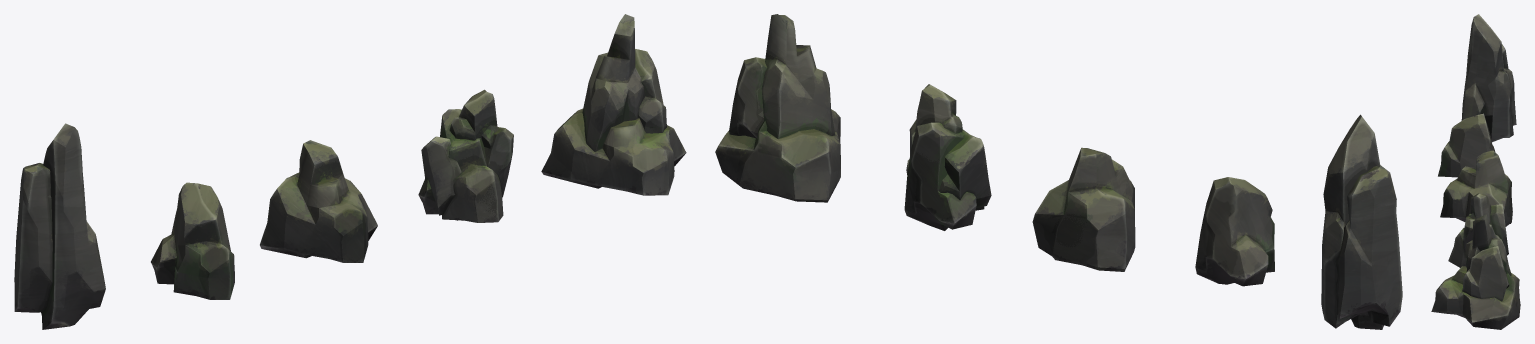
File: Rocksfix.fbx
3 views of the same model, side by side, from view 1: azimuth 30°, elevation 25°; view 2: azimuth 150°, elevation 25°; view 3: azimuth 270°, elevation 25° (orthographic). The views are drawn at different scales.
Visible parts, largest first — view 1: Rock_5, Rock_4, Rock_2, Rock_3, Rock_1; view 2: Rock_5, Rock_4, Rock_2, Rock_3, Rock_1; view 3: Rock_5, Rock_4, Rock_2, Rock_1, Rock_3.
Boxes of the visible parts, x1,y1,x2,y2 form: Rock_5: (541, 14, 686, 195); Rock_4: (14, 123, 105, 329); Rock_2: (260, 140, 377, 262); Rock_3: (418, 89, 513, 222); Rock_1: (151, 182, 234, 299); Rock_5: (715, 14, 840, 202); Rock_4: (1321, 114, 1402, 329); Rock_2: (1032, 147, 1135, 271); Rock_3: (904, 84, 991, 230); Rock_1: (1195, 177, 1274, 286); Rock_5: (1431, 214, 1520, 329); Rock_4: (1461, 14, 1516, 142); Rock_2: (1440, 150, 1512, 226); Rock_1: (1438, 113, 1495, 177); Rock_3: (1448, 193, 1508, 267).
Size of the model in its own units: 728 by 215 by 132.
